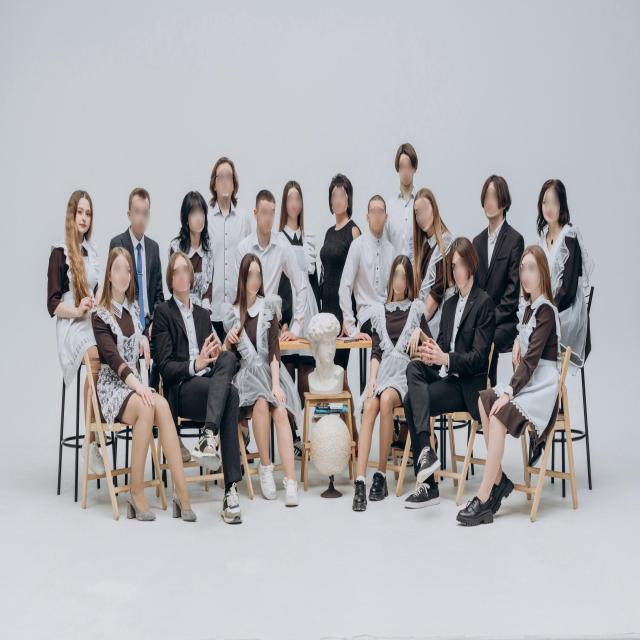Person: (97, 252, 195, 530), (483, 243, 568, 538), (160, 256, 252, 524), (223, 250, 315, 516), (420, 232, 490, 500), (355, 254, 421, 512), (44, 187, 116, 412), (535, 172, 601, 383), (466, 159, 532, 339), (348, 191, 400, 351), (122, 182, 170, 348), (201, 164, 251, 306), (316, 168, 364, 314), (276, 172, 314, 318), (178, 179, 215, 327), (385, 132, 423, 258), (243, 181, 284, 296), (408, 185, 448, 284)
